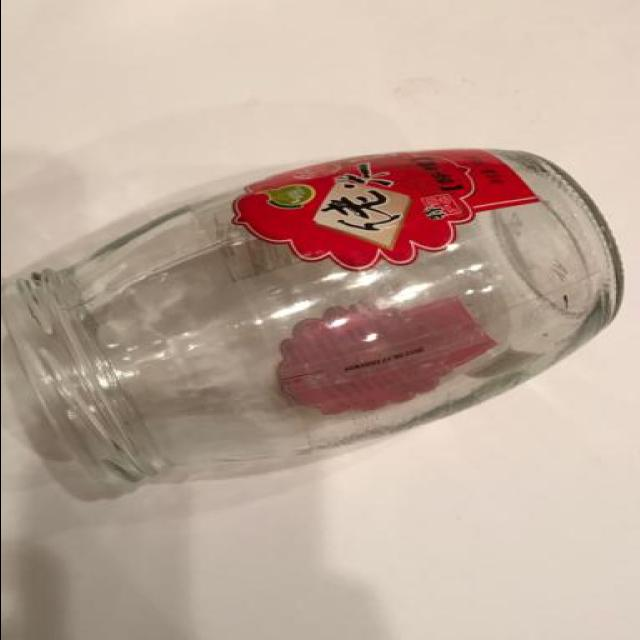Glass Bottle: (10, 146, 625, 494)
